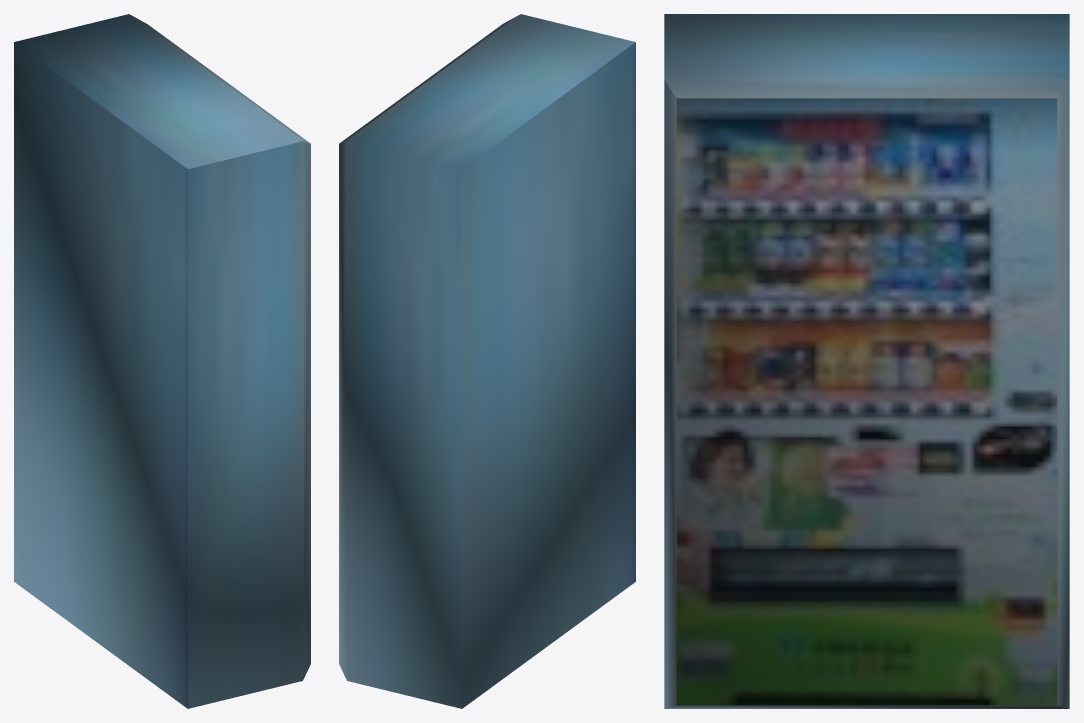
File: prop.vending_03.glb
3 views of the same model, side by side, from view 1: azimuth 30°, elevation 25°; view 2: azimuth 150°, elevation 25°; view 3: azimuth 270°, elevation 25° (orthographic). The views are drawn at different scales.
Parts seen in each view (by area): view 1: Cube002; view 2: Cube002; view 3: Cube002.
Part boxes in pixels (x1,y1,x2,y2): Cube002: (14,14,310,708); Cube002: (339,14,635,708); Cube002: (664,14,1069,708).
Size of the model in its own units: 0.4479 by 1.8 by 1.05.
Materials: 1 (1 with a texture image).
